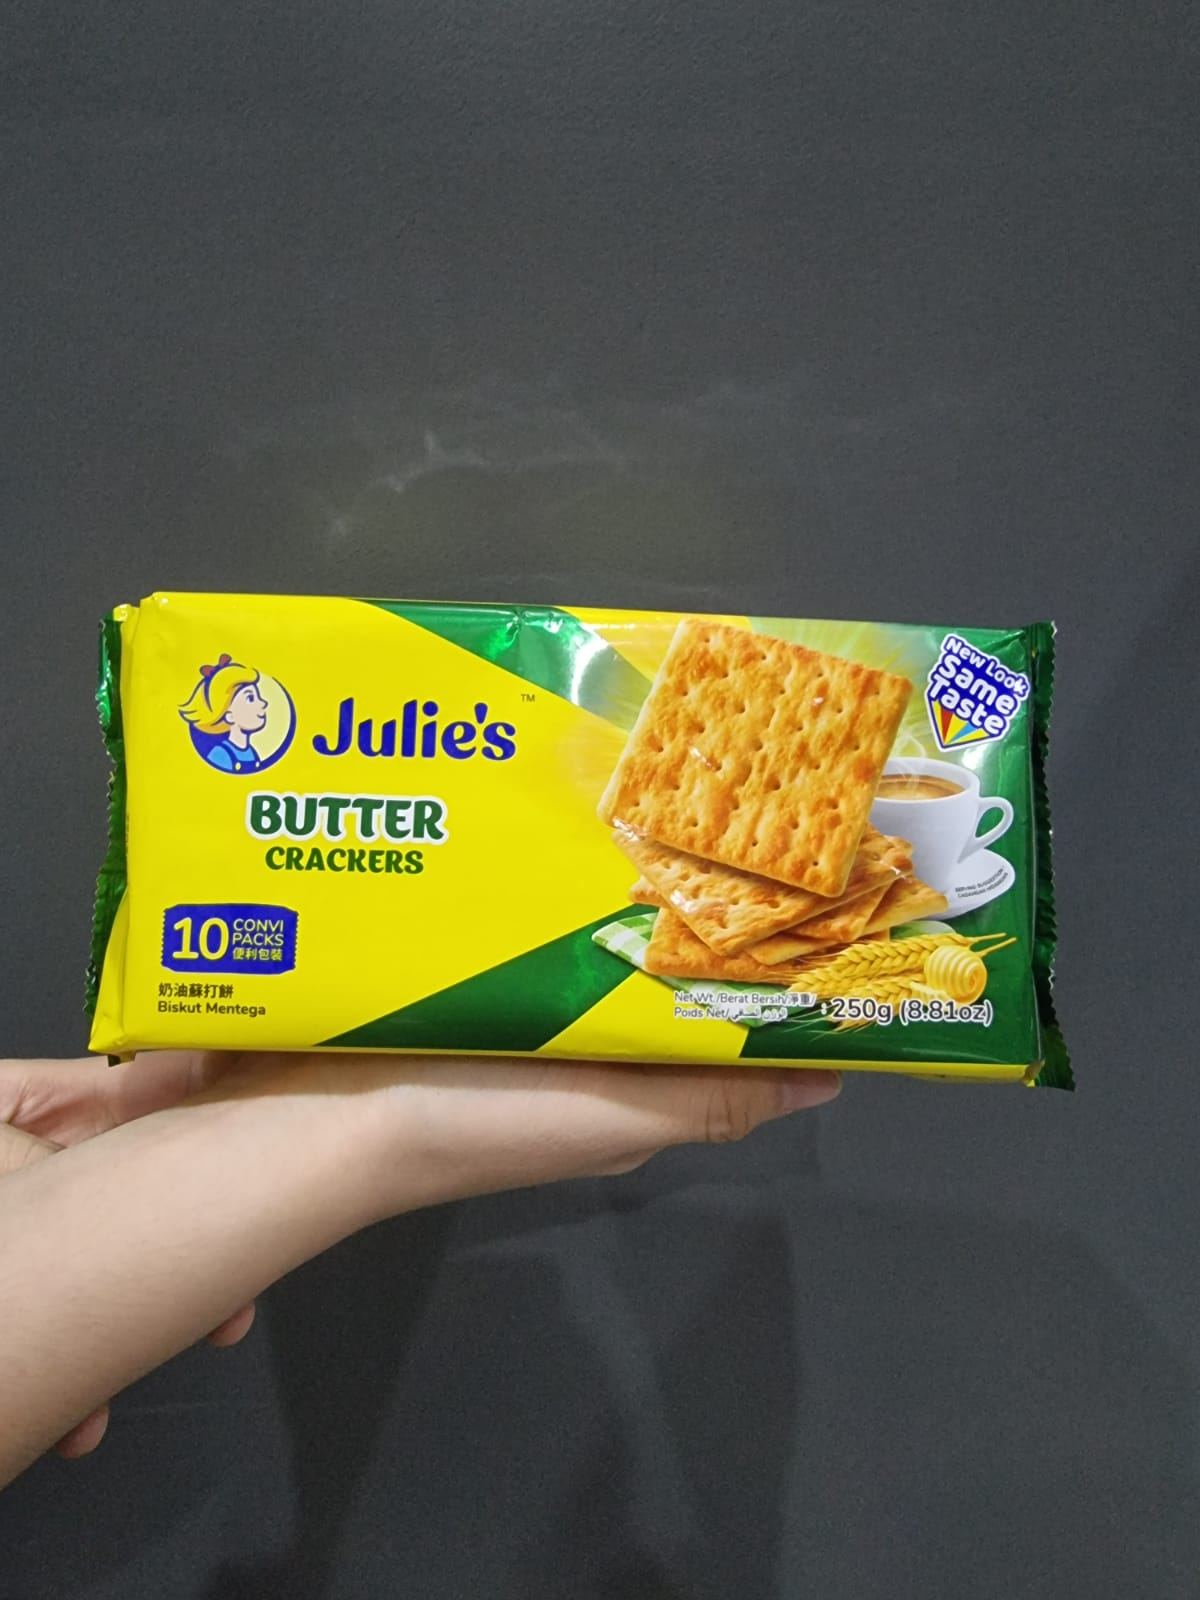Biscuits: (97, 603, 1053, 1070)
